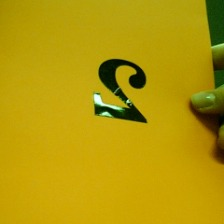orange2: (89, 55, 151, 126)
